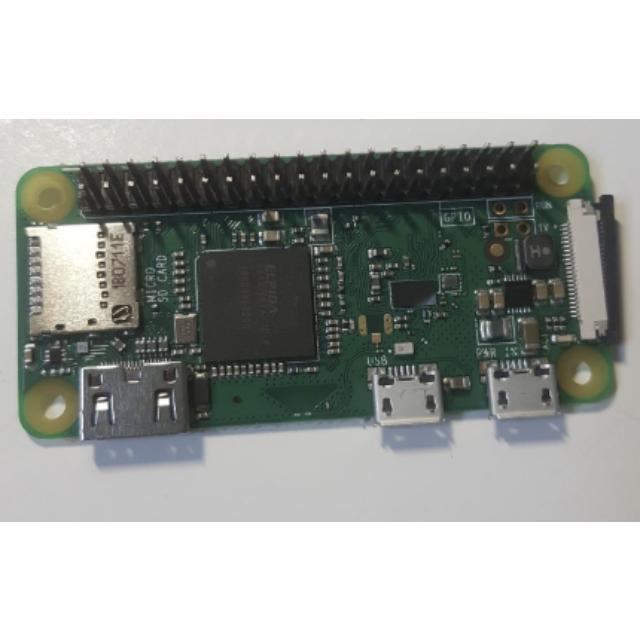Raspberry-Pi-Zero-WH: (17, 145, 618, 440)
